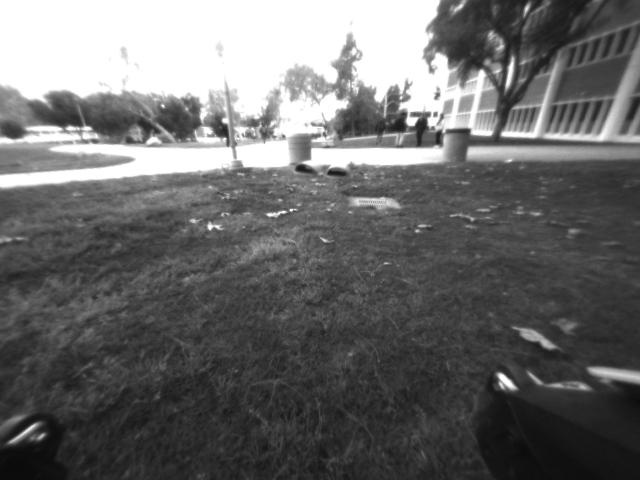trashcan: (440, 127, 468, 163), (285, 129, 312, 165)
